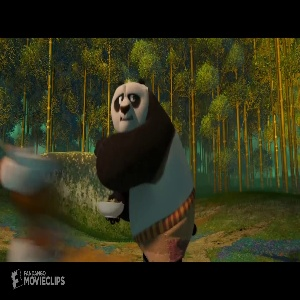po: (98, 77, 201, 262)
